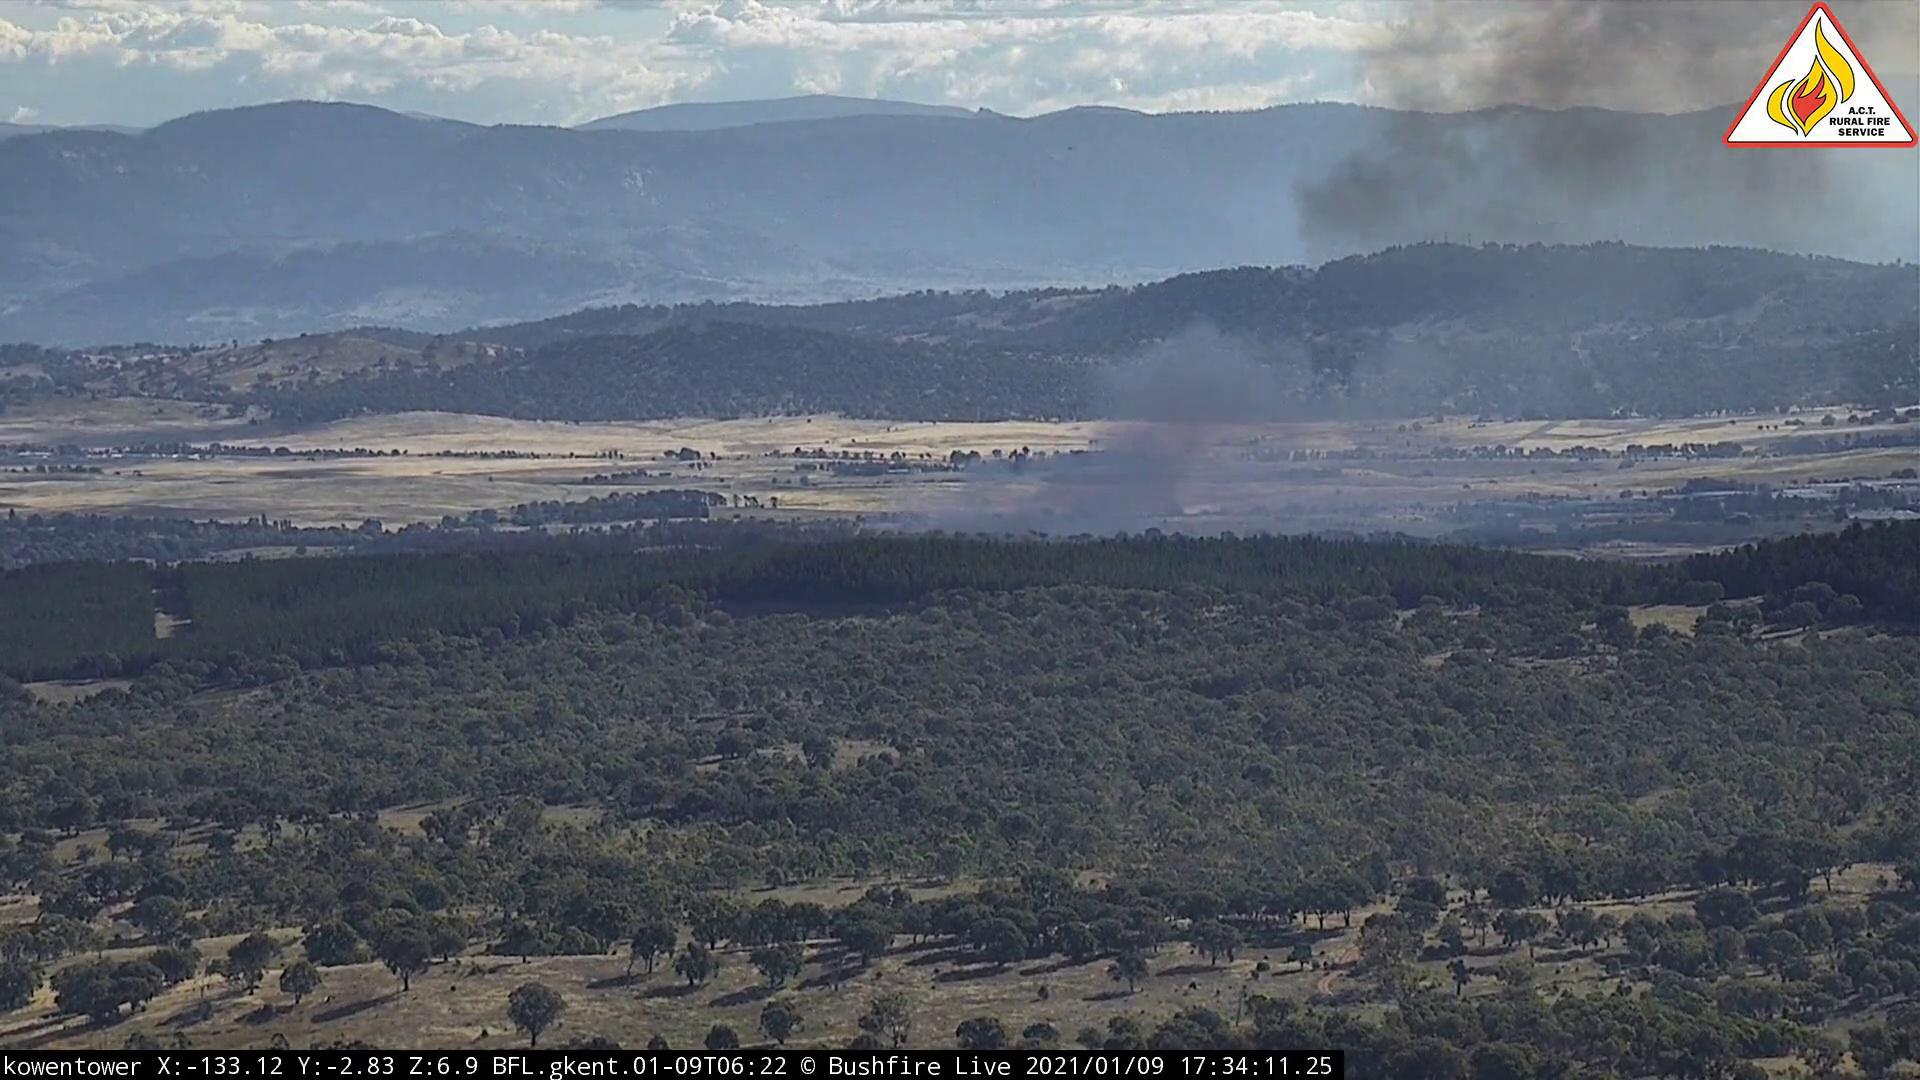instance_salient_object: (860, 3, 1716, 553)
